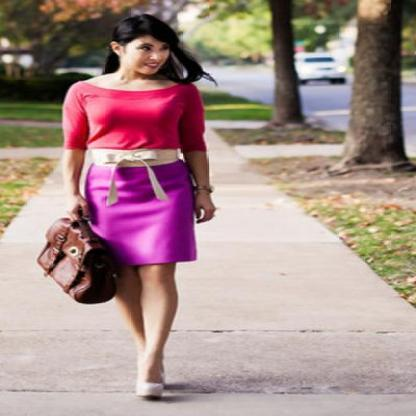bag: (36, 208, 181, 401)
shirt: (61, 80, 205, 157)
skirt: (73, 161, 203, 274)
